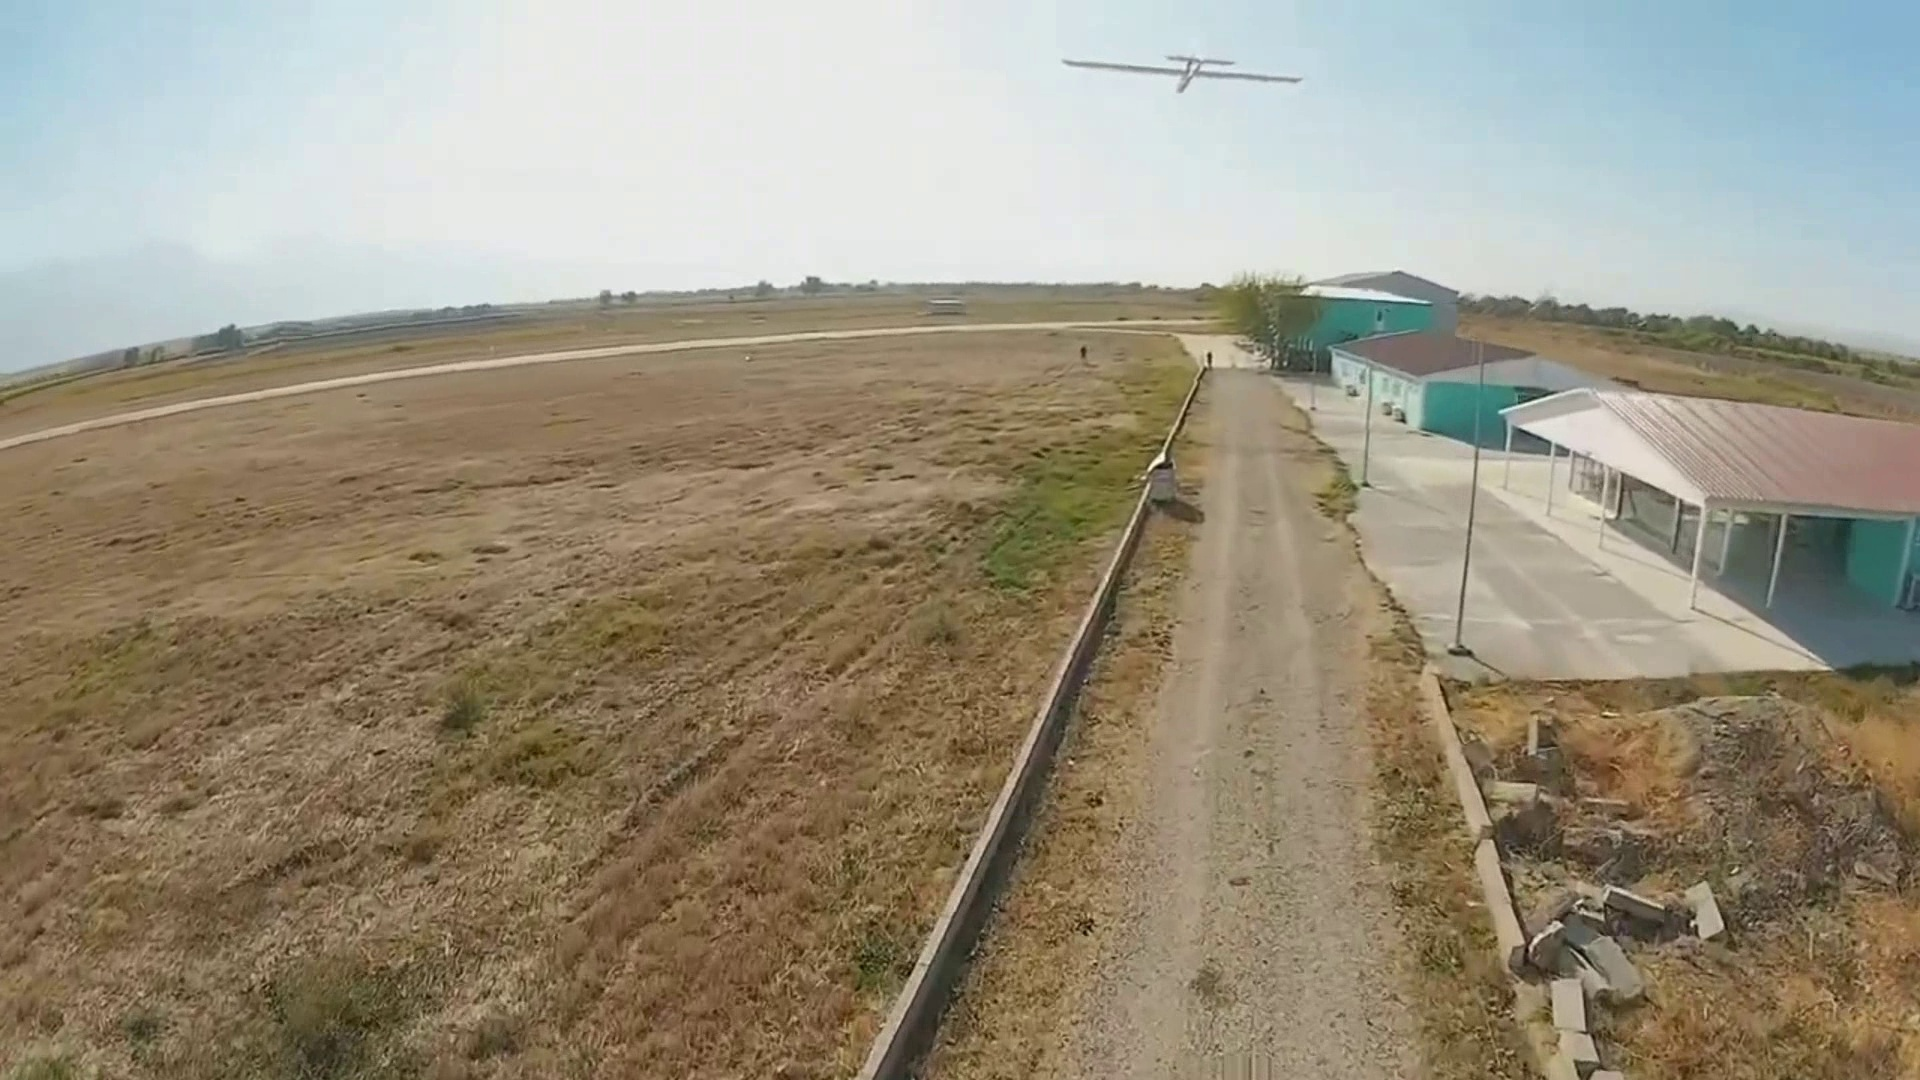airplane: (1062, 47, 1304, 94)
